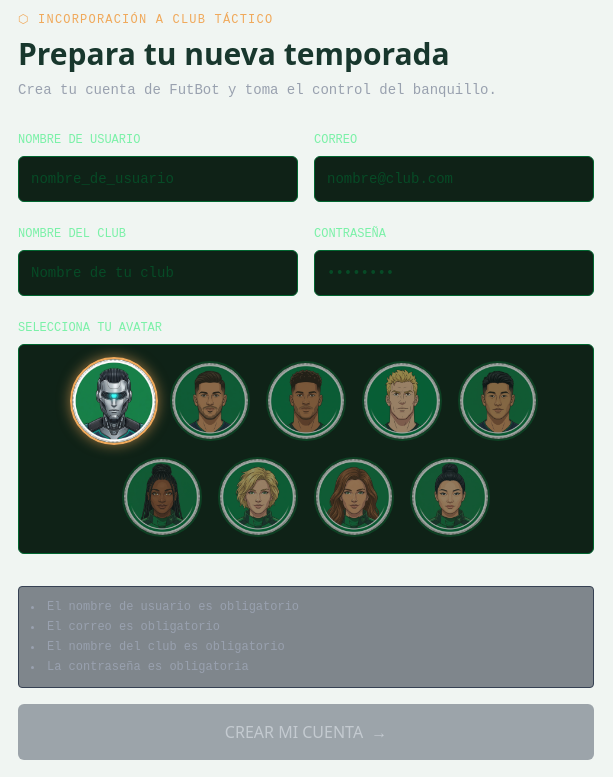
Test: RegisterForm › Debe mostrar mensaje de error si el backend falla (Simula 400)
Type "Transistores" into the field labelled "Nombre de usuario".
click(158, 179); type("Transistores")  # box [31,169,285,189]
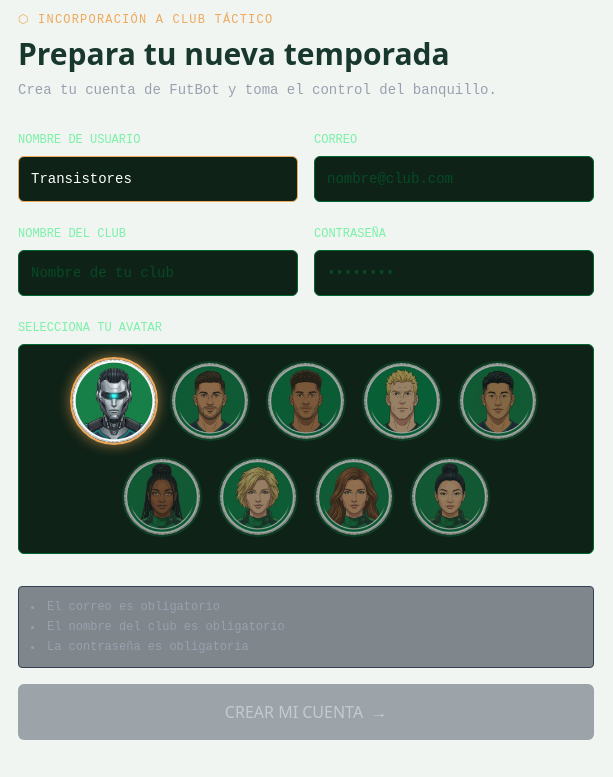
Type "duplicado@mail.com" into the field labelled "Correo".
click(454, 179); type("duplicado@mail.com")  # box [327,169,581,189]
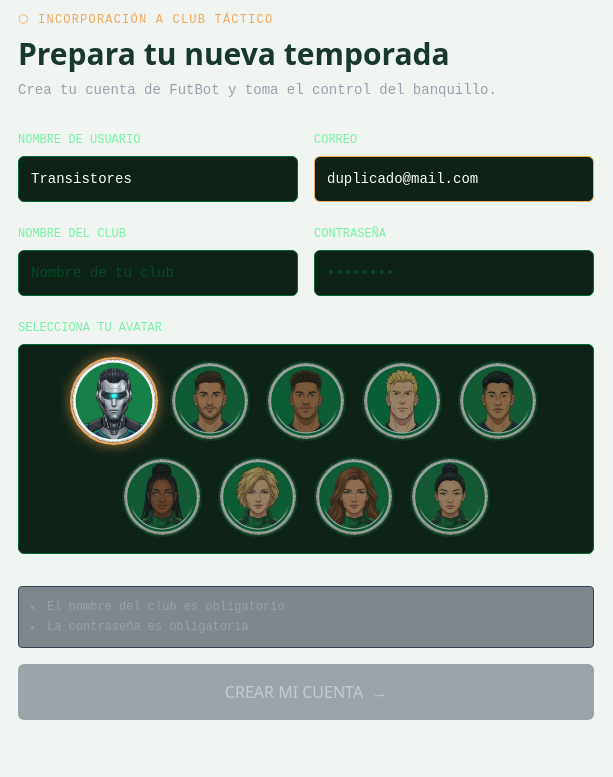
Type "Los Transistores FC" into the field labelled "Nombre del Club".
click(158, 273); type("Los Transistores FC")  # box [31,263,285,283]
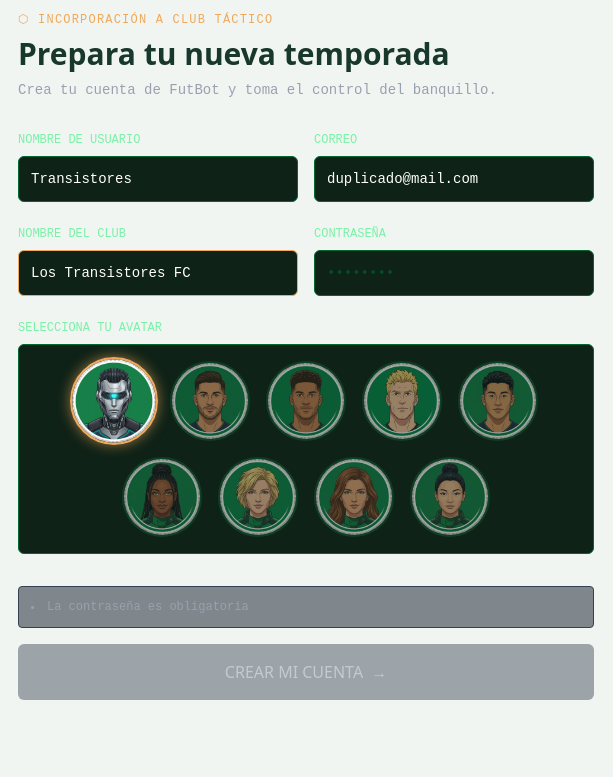
Type "12345678" into the password field labelled "Contraseña".
click(454, 273); type("12345678")  # box [327,263,581,283]
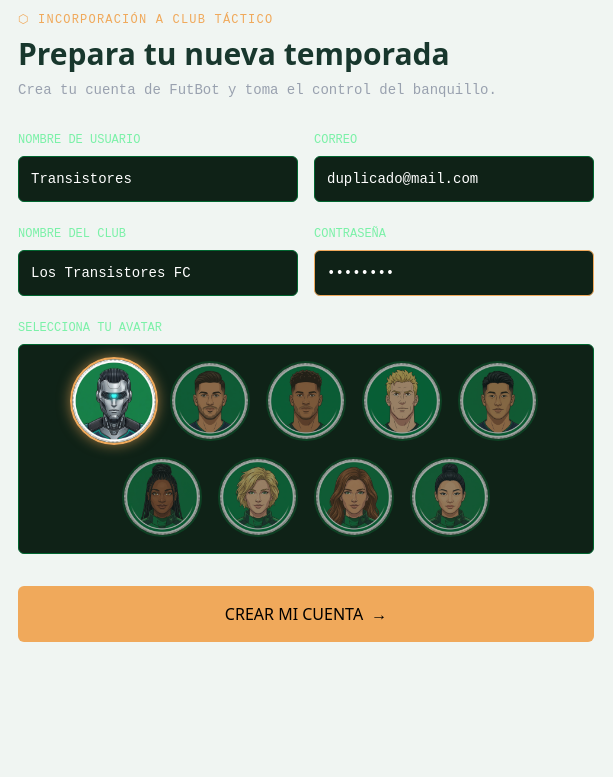
Click the button "CREAR MI CUENTA →".
click(306, 614)  # box [18,586,594,642]
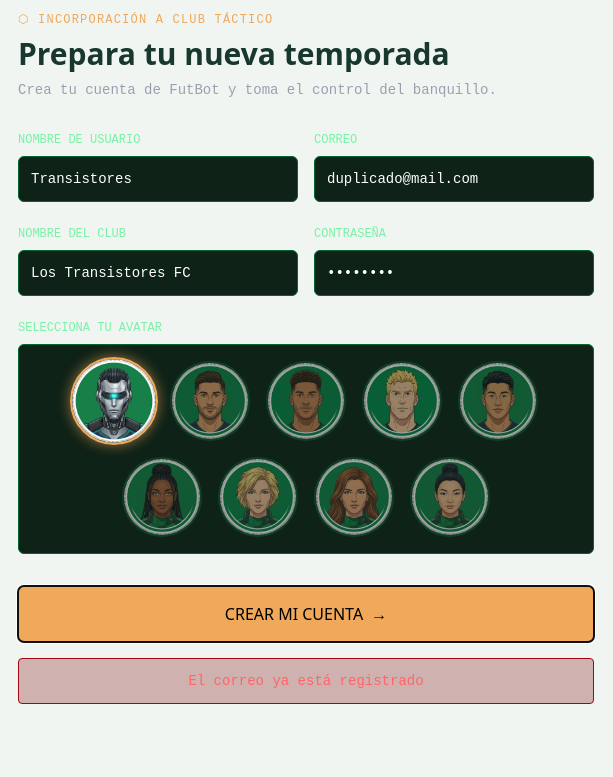
Expected: the text "El correo ya está registrado" is shown, [18,658,594,704]
